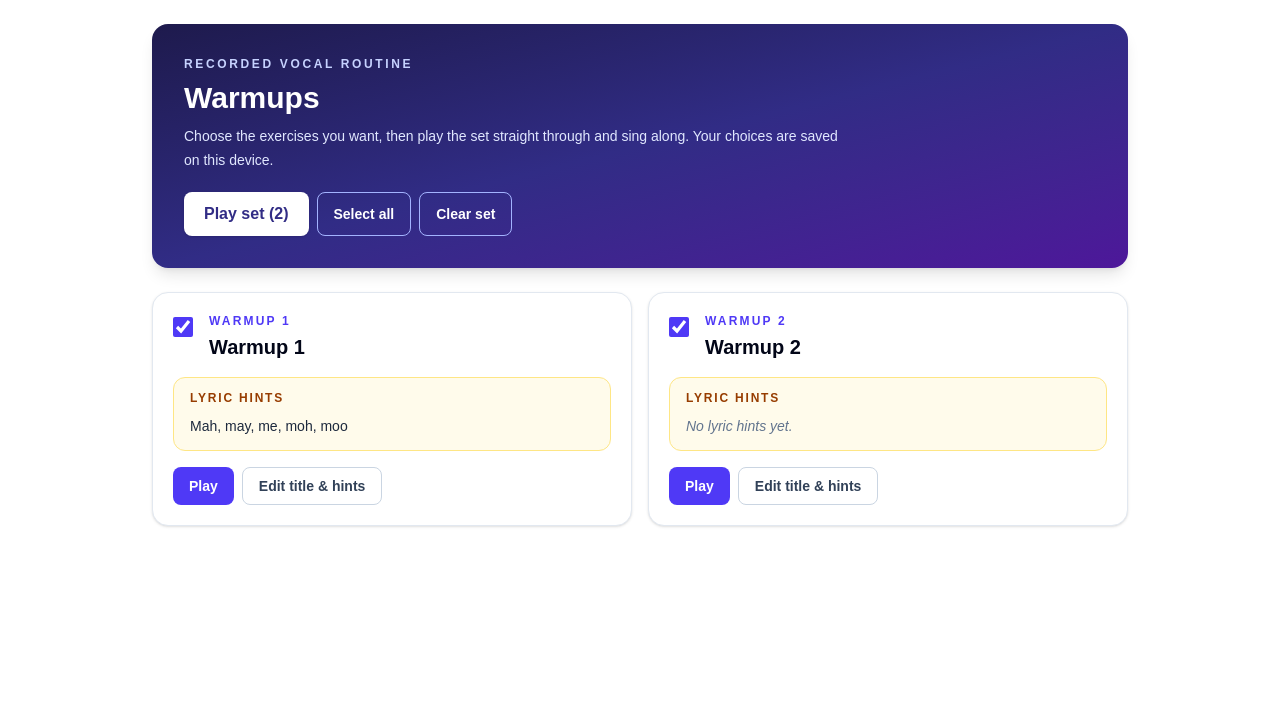
it: recorded warmup browser › lets an administrator edit the shared title and lyric hints
Click the button "Edit title & hints" below "Mah, may, me, moh, moo" at coordinates (312, 486), box [242,467,382,505]
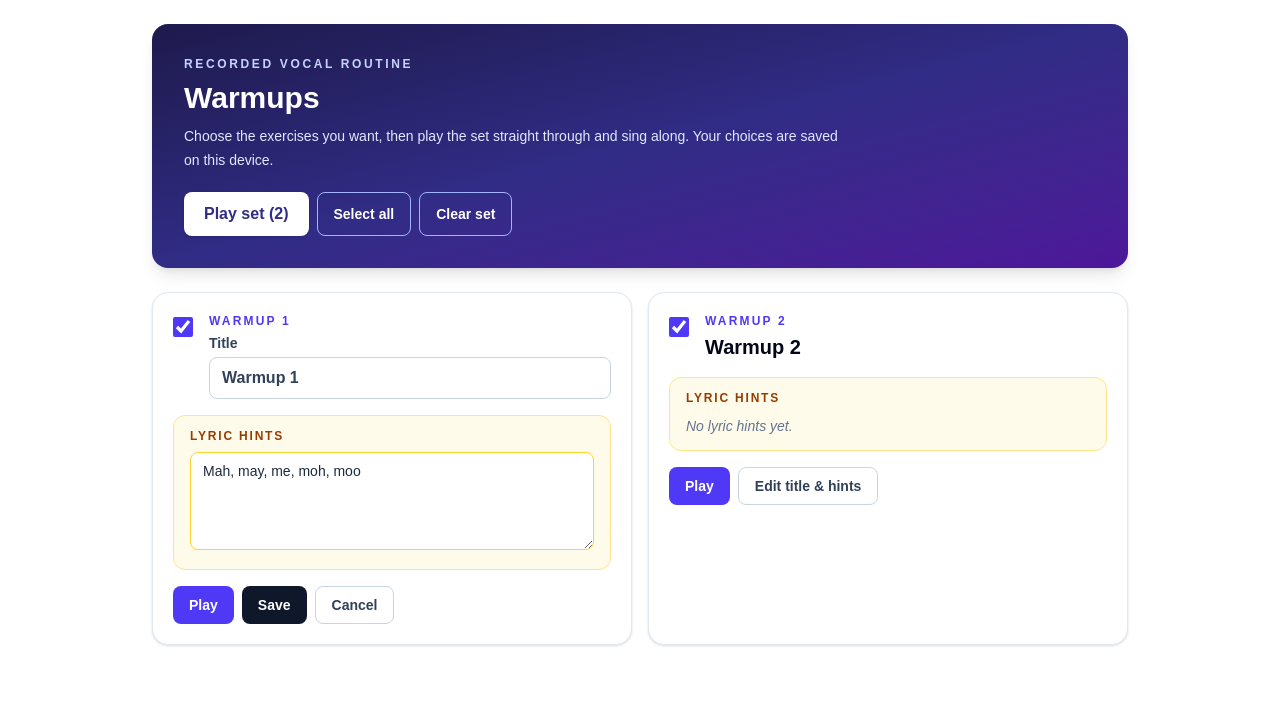
Replace the text in the field labelled "Title" with "Lip trill ladder" at coordinates (410, 378), box [209,357,611,399]
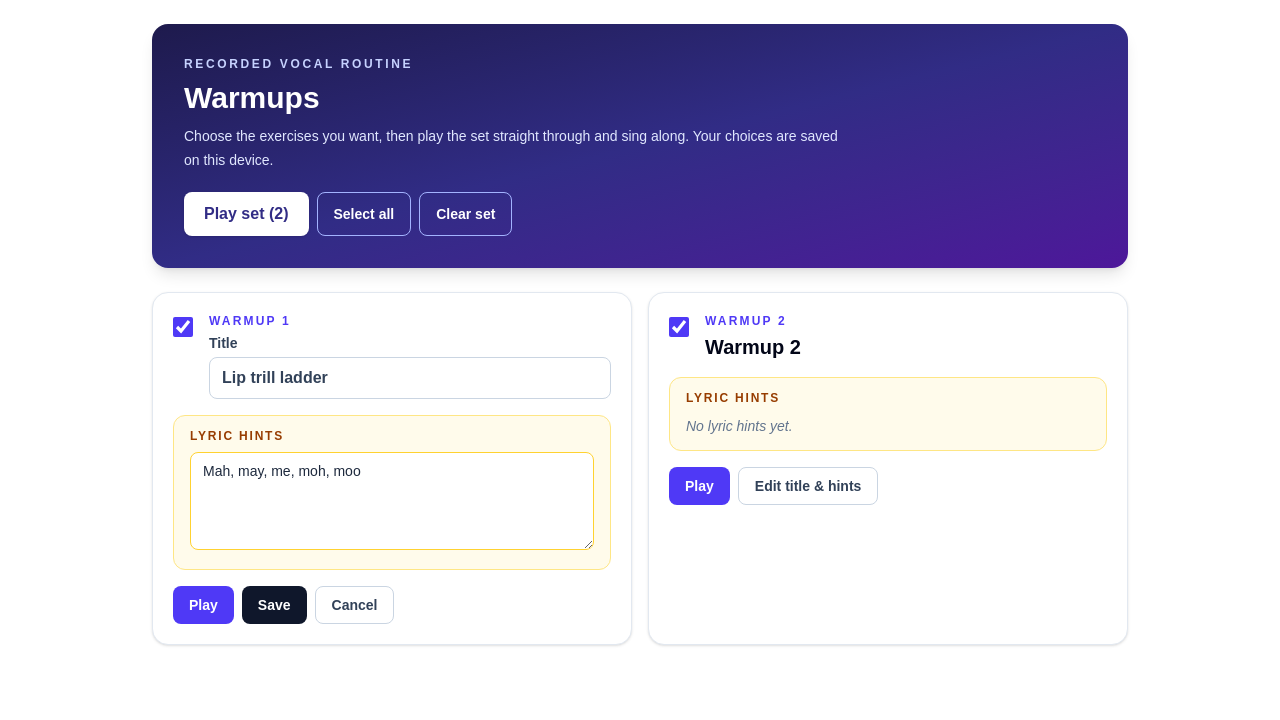
Replace the text in the text box with placeholder "Add the syllables" with "Easy lips; breathe low." at coordinates (392, 501), box [190,452,594,550]
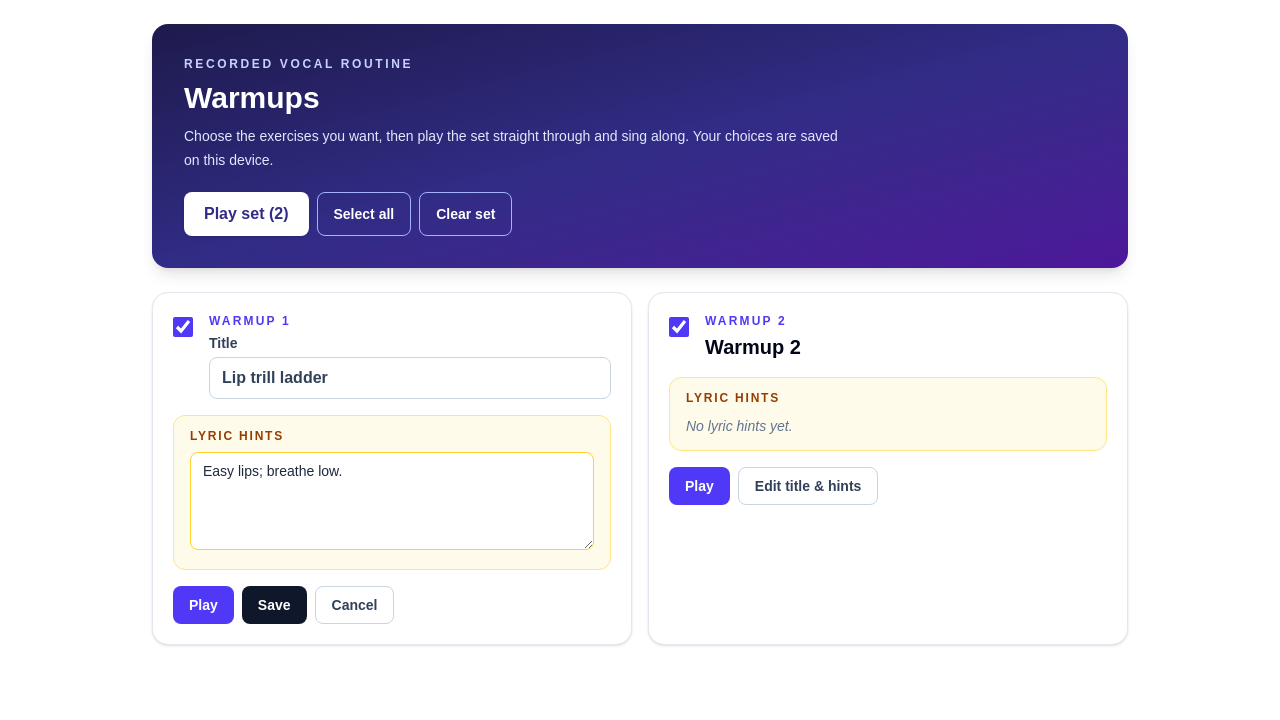
Click the button "Save" at coordinates (274, 605), box [242,586,306,624]
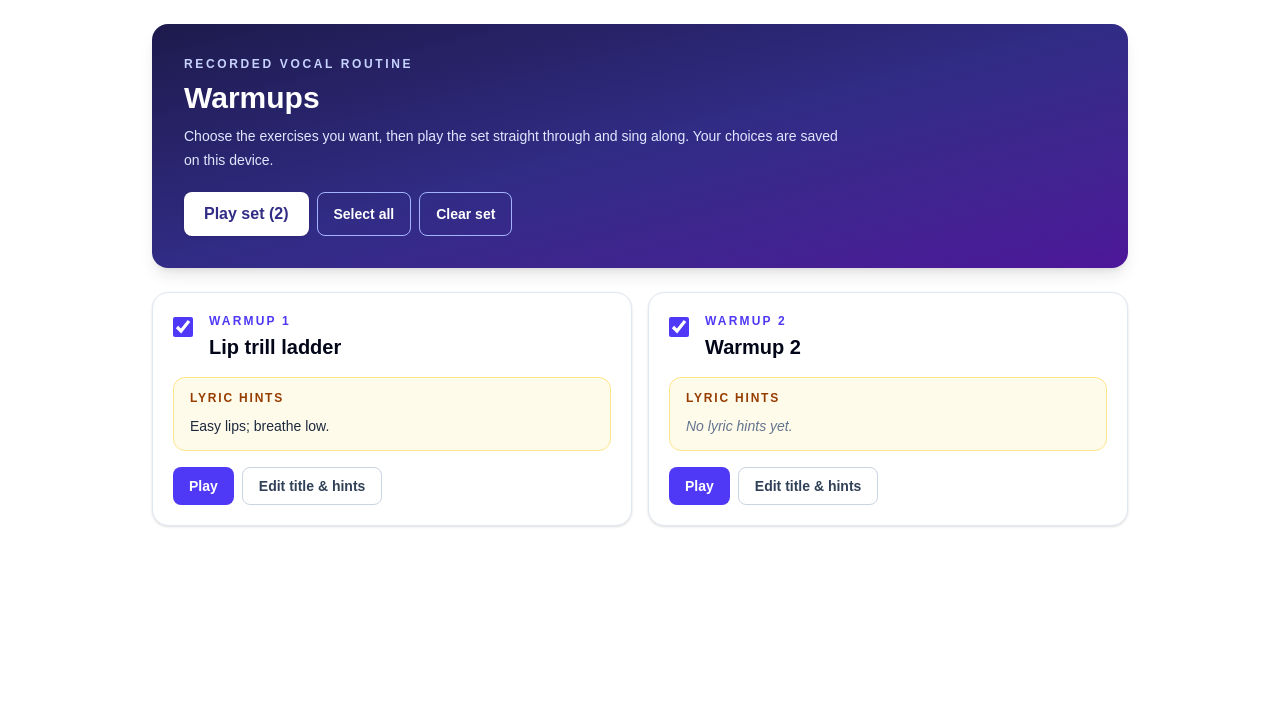
Expected: the heading "Lip trill ladder" is shown, [209,336,341,358]
